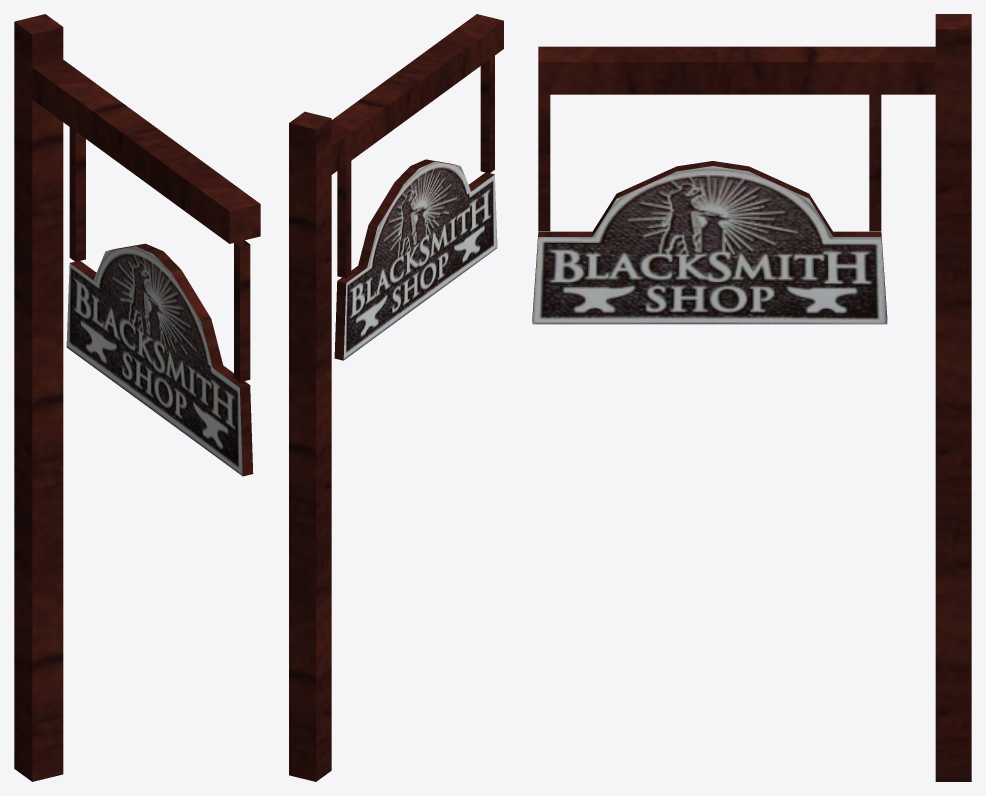
Rendered from blacksmithSign.gltf.
The picture shows the model from 3 angles, left to right: view 1: azimuth 30°, elevation 25°; view 2: azimuth 150°, elevation 25°; view 3: azimuth 270°, elevation 25°; orthographic projection. The views are drawn at different scales.
Visible parts, largest first — view 1: blacksmithSign; view 2: blacksmithSign; view 3: blacksmithSign.
Boxes of the visible parts, <box> form: blacksmithSign: <box>14,14,260,781</box>; blacksmithSign: <box>289,14,503,781</box>; blacksmithSign: <box>532,14,971,781</box>.
Bounding box in the file's own units: 0.1875 × 4.31 × 2.28.
2 materials, 2 textured.
